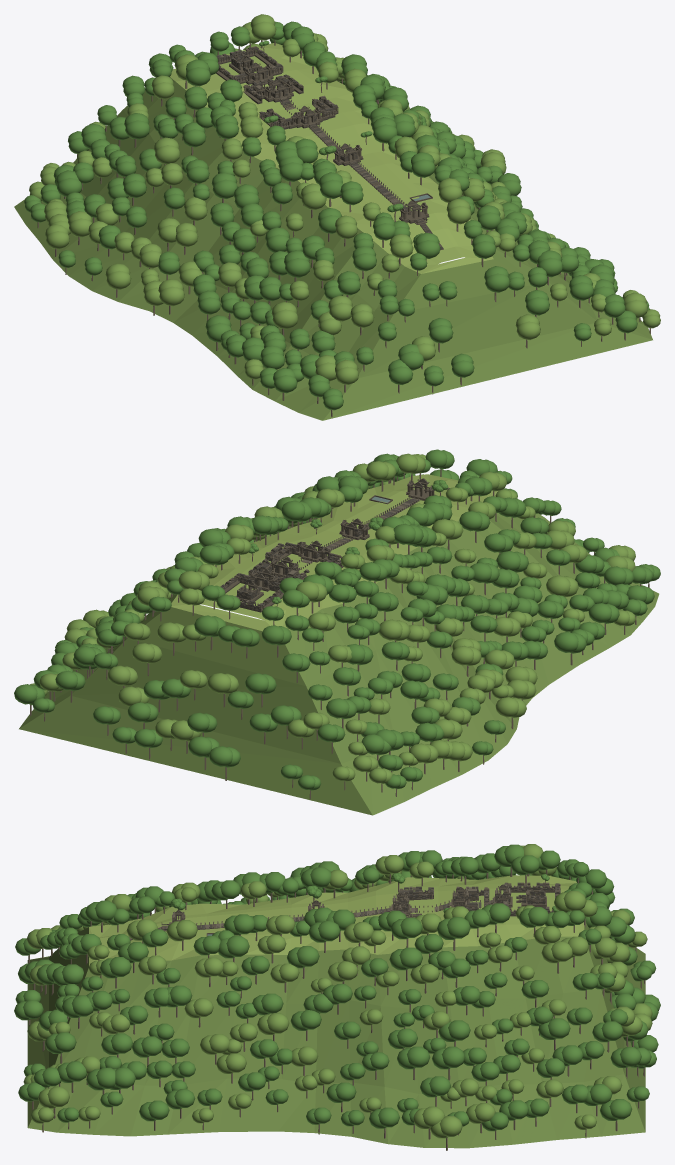
The model's file is preah-vihear-ultra.glb.
3 renders of one model, top to bottom at view 1: azimuth 30°, elevation 25°; view 2: azimuth 150°, elevation 25°; view 3: azimuth 270°, elevation 25°, orthographic. The views are drawn at different scales.
Visible parts, largest first — view 1: Batched | Canopy, Batched | Mountain ground, Batched | Canopy light, Batched | Dry plateau, Batched | Sandstone 1, Batched | Sandstone 2, Batched | Bark, Batched | Sandstone 0, Batched | Sandstone 3; view 2: Batched | Canopy, Batched | Mountain ground, Batched | Canopy light, Batched | Dry plateau, Batched | Sandstone 1, Batched | Bark, Batched | Sandstone 2, Batched | Sandstone 0, Batched | Sandstone 3; view 3: Batched | Canopy, Batched | Mountain ground, Batched | Canopy light, Batched | Dry plateau, Batched | Bark, Batched | Sandstone 1, Batched | Sandstone 2, Batched | Sandstone 0, Batched | Sandstone 3.
Part boxes in pixels (<box>): Batched | Canopy: <box>24,21,649,410</box>; Batched | Mountain ground: <box>14,55,652,420</box>; Batched | Canopy light: <box>29,14,660,384</box>; Batched | Dry plateau: <box>170,43,493,273</box>; Batched | Sandstone 1: <box>216,46,443,250</box>; Batched | Sandstone 2: <box>218,49,441,246</box>; Batched | Bark: <box>31,40,650,417</box>; Batched | Sandstone 0: <box>216,47,442,248</box>; Batched | Sandstone 3: <box>217,47,443,249</box>; Batched | Canopy: <box>14,449,660,790</box>; Batched | Mountain ground: <box>19,508,659,815</box>; Batched | Canopy light: <box>30,453,635,783</box>; Batched | Dry plateau: <box>171,474,498,631</box>; Batched | Sandstone 1: <box>223,478,448,611</box>; Batched | Bark: <box>30,469,649,799</box>; Batched | Sandstone 2: <box>221,478,448,610</box>; Batched | Sandstone 0: <box>212,478,434,612</box>; Batched | Sandstone 3: <box>221,488,449,609</box>; Batched | Canopy: <box>14,844,660,1131</box>; Batched | Mountain ground: <box>27,921,645,1148</box>; Batched | Canopy light: <box>23,844,652,1138</box>; Batched | Dry plateau: <box>89,875,584,966</box>; Batched | Bark: <box>28,867,645,1150</box>; Batched | Sandstone 1: <box>129,882,560,940</box>; Batched | Sandstone 2: <box>129,882,559,940</box>; Batched | Sandstone 0: <box>159,883,560,929</box>; Batched | Sandstone 3: <box>132,882,560,939</box>.
Bounding box in the file's own units: 13.8 × 5.09 × 17.2.
Materials: 10 (4 with a texture image).
